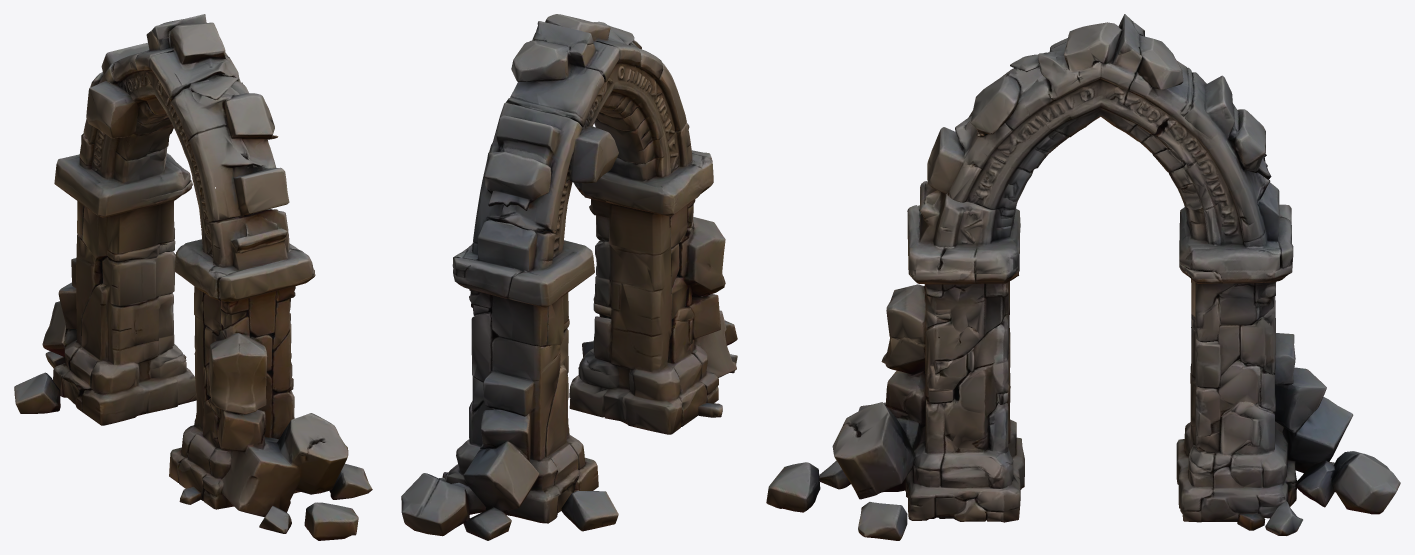
The model's file is ruined_arch.glb.
The picture shows the model from 3 angles, left to right: view 1: azimuth 30°, elevation 25°; view 2: azimuth 150°, elevation 25°; view 3: azimuth 270°, elevation 25°; orthographic projection. The views are drawn at different scales.
Visible parts, largest first — view 1: tripo_node_60318f43-c8a4-49cd-9746-fda7a8c47b4e; view 2: tripo_node_60318f43-c8a4-49cd-9746-fda7a8c47b4e; view 3: tripo_node_60318f43-c8a4-49cd-9746-fda7a8c47b4e.
Part boxes in pixels (box(x1,y1,x2,y2)): tripo_node_60318f43-c8a4-49cd-9746-fda7a8c47b4e: box(14, 14, 372, 540); tripo_node_60318f43-c8a4-49cd-9746-fda7a8c47b4e: box(401, 14, 737, 540); tripo_node_60318f43-c8a4-49cd-9746-fda7a8c47b4e: box(766, 14, 1400, 540).
Bounding box in the file's own units: 0.3914 × 0.8025 × 0.9796.
1 material, 1 textured.
